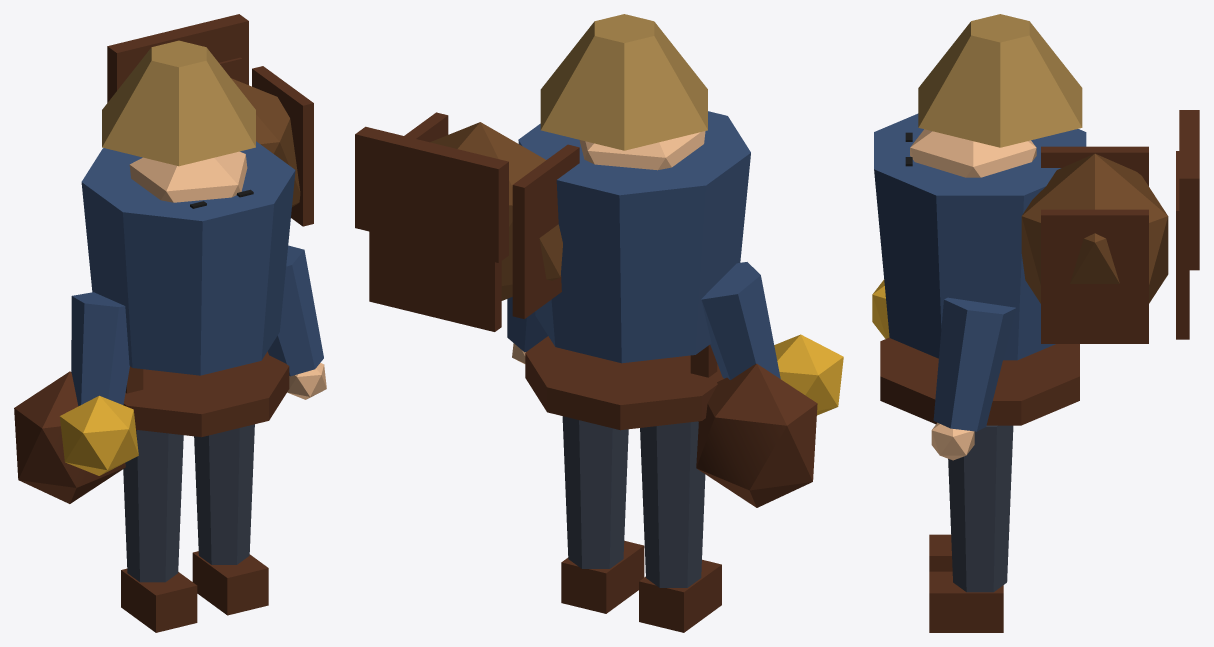
The model's file is npc_merchant.glb.
The picture shows the model from 3 angles, left to right: view 1: azimuth 30°, elevation 25°; view 2: azimuth 150°, elevation 25°; view 3: azimuth 270°, elevation 25°; orthographic projection. The views are drawn at different scales.
Parts seen in each view (by area): view 1: tunic, hood, leg_0, leg_1, belt, satchel, pack, arm_0, arm_1, coin, head, pack_flap; view 2: tunic, pack, hood, pack_flap, satchel, leg_0, leg_1, belt, arm_0, coin, head, arm_1; view 3: tunic, pack, hood, leg_1, belt, arm_1, head, pack_flap, leg_0, coin.
Boxes of the visible parts, left/top/right/bottom form: tunic: left=81, top=141, right=295, bottom=375; hood: left=102, top=40, right=255, bottom=166; leg_0: left=121, top=430, right=197, bottom=632; leg_1: left=192, top=424, right=268, bottom=615; belt: left=123, top=351, right=289, bottom=437; satchel: left=14, top=366, right=143, bottom=503; pack: left=219, top=57, right=313, bottom=226; arm_0: left=71, top=292, right=129, bottom=406; arm_1: left=267, top=245, right=326, bottom=399; coin: left=59, top=395, right=138, bottom=475; head: left=129, top=151, right=253, bottom=208; pack_flap: left=107, top=14, right=248, bottom=102; tunic: left=518, top=111, right=750, bottom=363; pack: left=369, top=112, right=579, bottom=331; hood: left=540, top=14, right=707, bottom=150; pack_flap: left=355, top=126, right=508, bottom=262; satchel: left=690, top=345, right=817, bottom=507; leg_0: left=639, top=421, right=721, bottom=632; leg_1: left=561, top=416, right=644, bottom=613; belt: left=525, top=336, right=723, bottom=430; arm_0: left=701, top=262, right=780, bottom=379; coin: left=774, top=334, right=843, bottom=415; head: left=579, top=131, right=705, bottom=170; arm_1: left=507, top=297, right=547, bottom=363; tunic: left=874, top=113, right=1086, bottom=360; pack: left=1021, top=146, right=1189, bottom=343; hood: left=918, top=14, right=1082, bottom=147; leg_1: left=929, top=425, right=1013, bottom=632; belt: left=880, top=337, right=1079, bottom=425; arm_1: left=931, top=297, right=1015, bottom=460; head: left=905, top=129, right=1036, bottom=177; pack_flap: left=1179, top=110, right=1199, bottom=270; leg_0: left=929, top=534, right=952, bottom=571; coin: left=872, top=279, right=889, bottom=338.
Bounding box in the file's own units: 1.2 × 1.88 × 0.9691.
